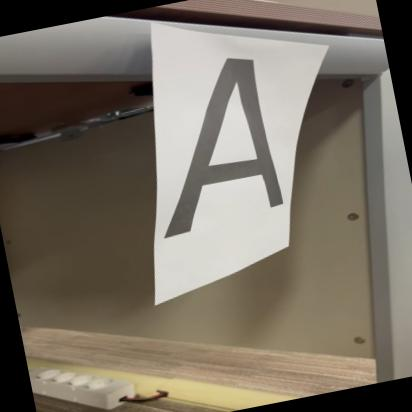seat: (119, 32, 312, 238)
